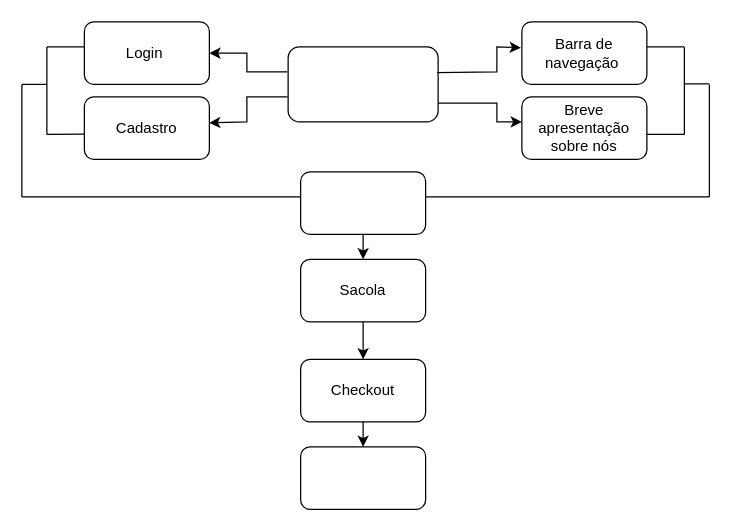
Image size: 733x531. Some labels were removed from this diagram. Here are the shapes that lost their labels. From the top down, the centre of each, then its label:
pixel 362 84: Página inicial GreenCycle
pixel 362 202: Loja
pixel 362 477: Finalizar compra
